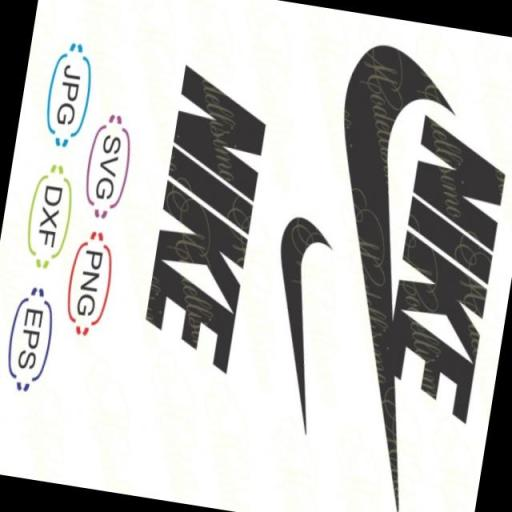Nike: (236, 203, 349, 457)
